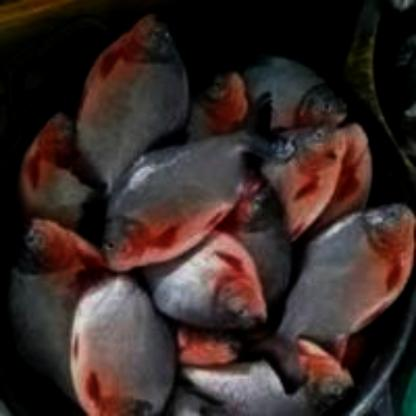ikan-pacu: (98, 124, 254, 266), (68, 15, 192, 192), (280, 200, 416, 338), (10, 216, 98, 400), (73, 266, 177, 414), (147, 231, 269, 338), (245, 54, 351, 126)
